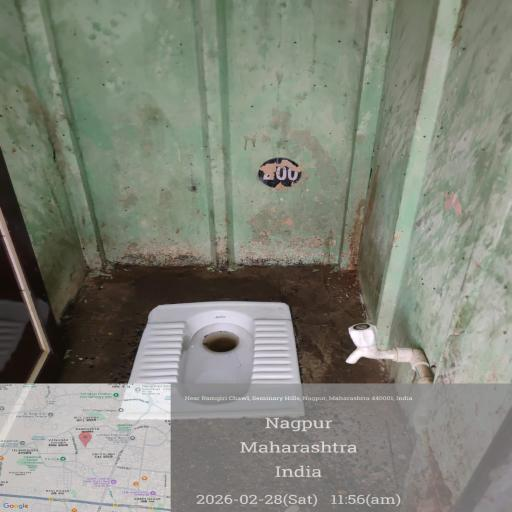clean_floor: (23, 3, 380, 79)
partial_dirty_floor: (111, 82, 375, 275), (61, 264, 381, 387), (364, 114, 500, 380), (0, 64, 112, 286)
partial_dirty_indian: (146, 308, 288, 383)
